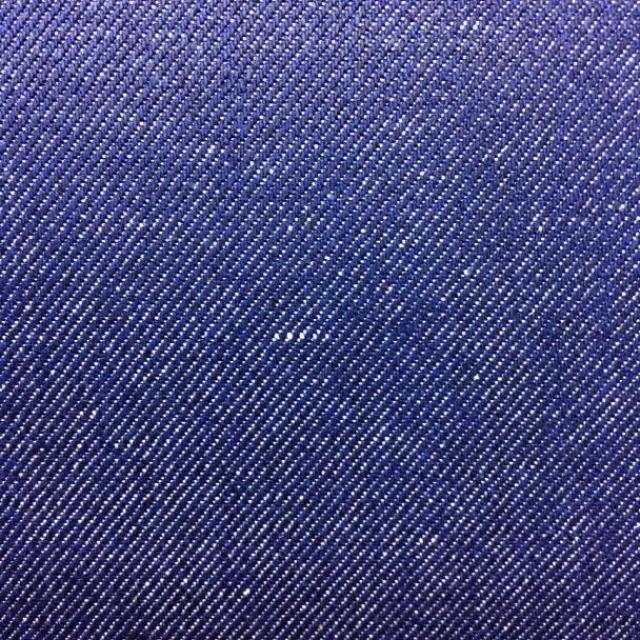Knot: (273, 326, 331, 346)
